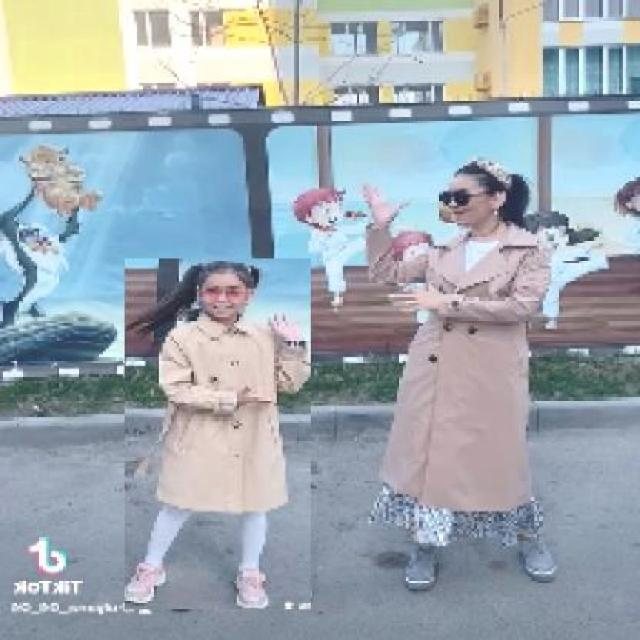child: (123, 258, 311, 611)
